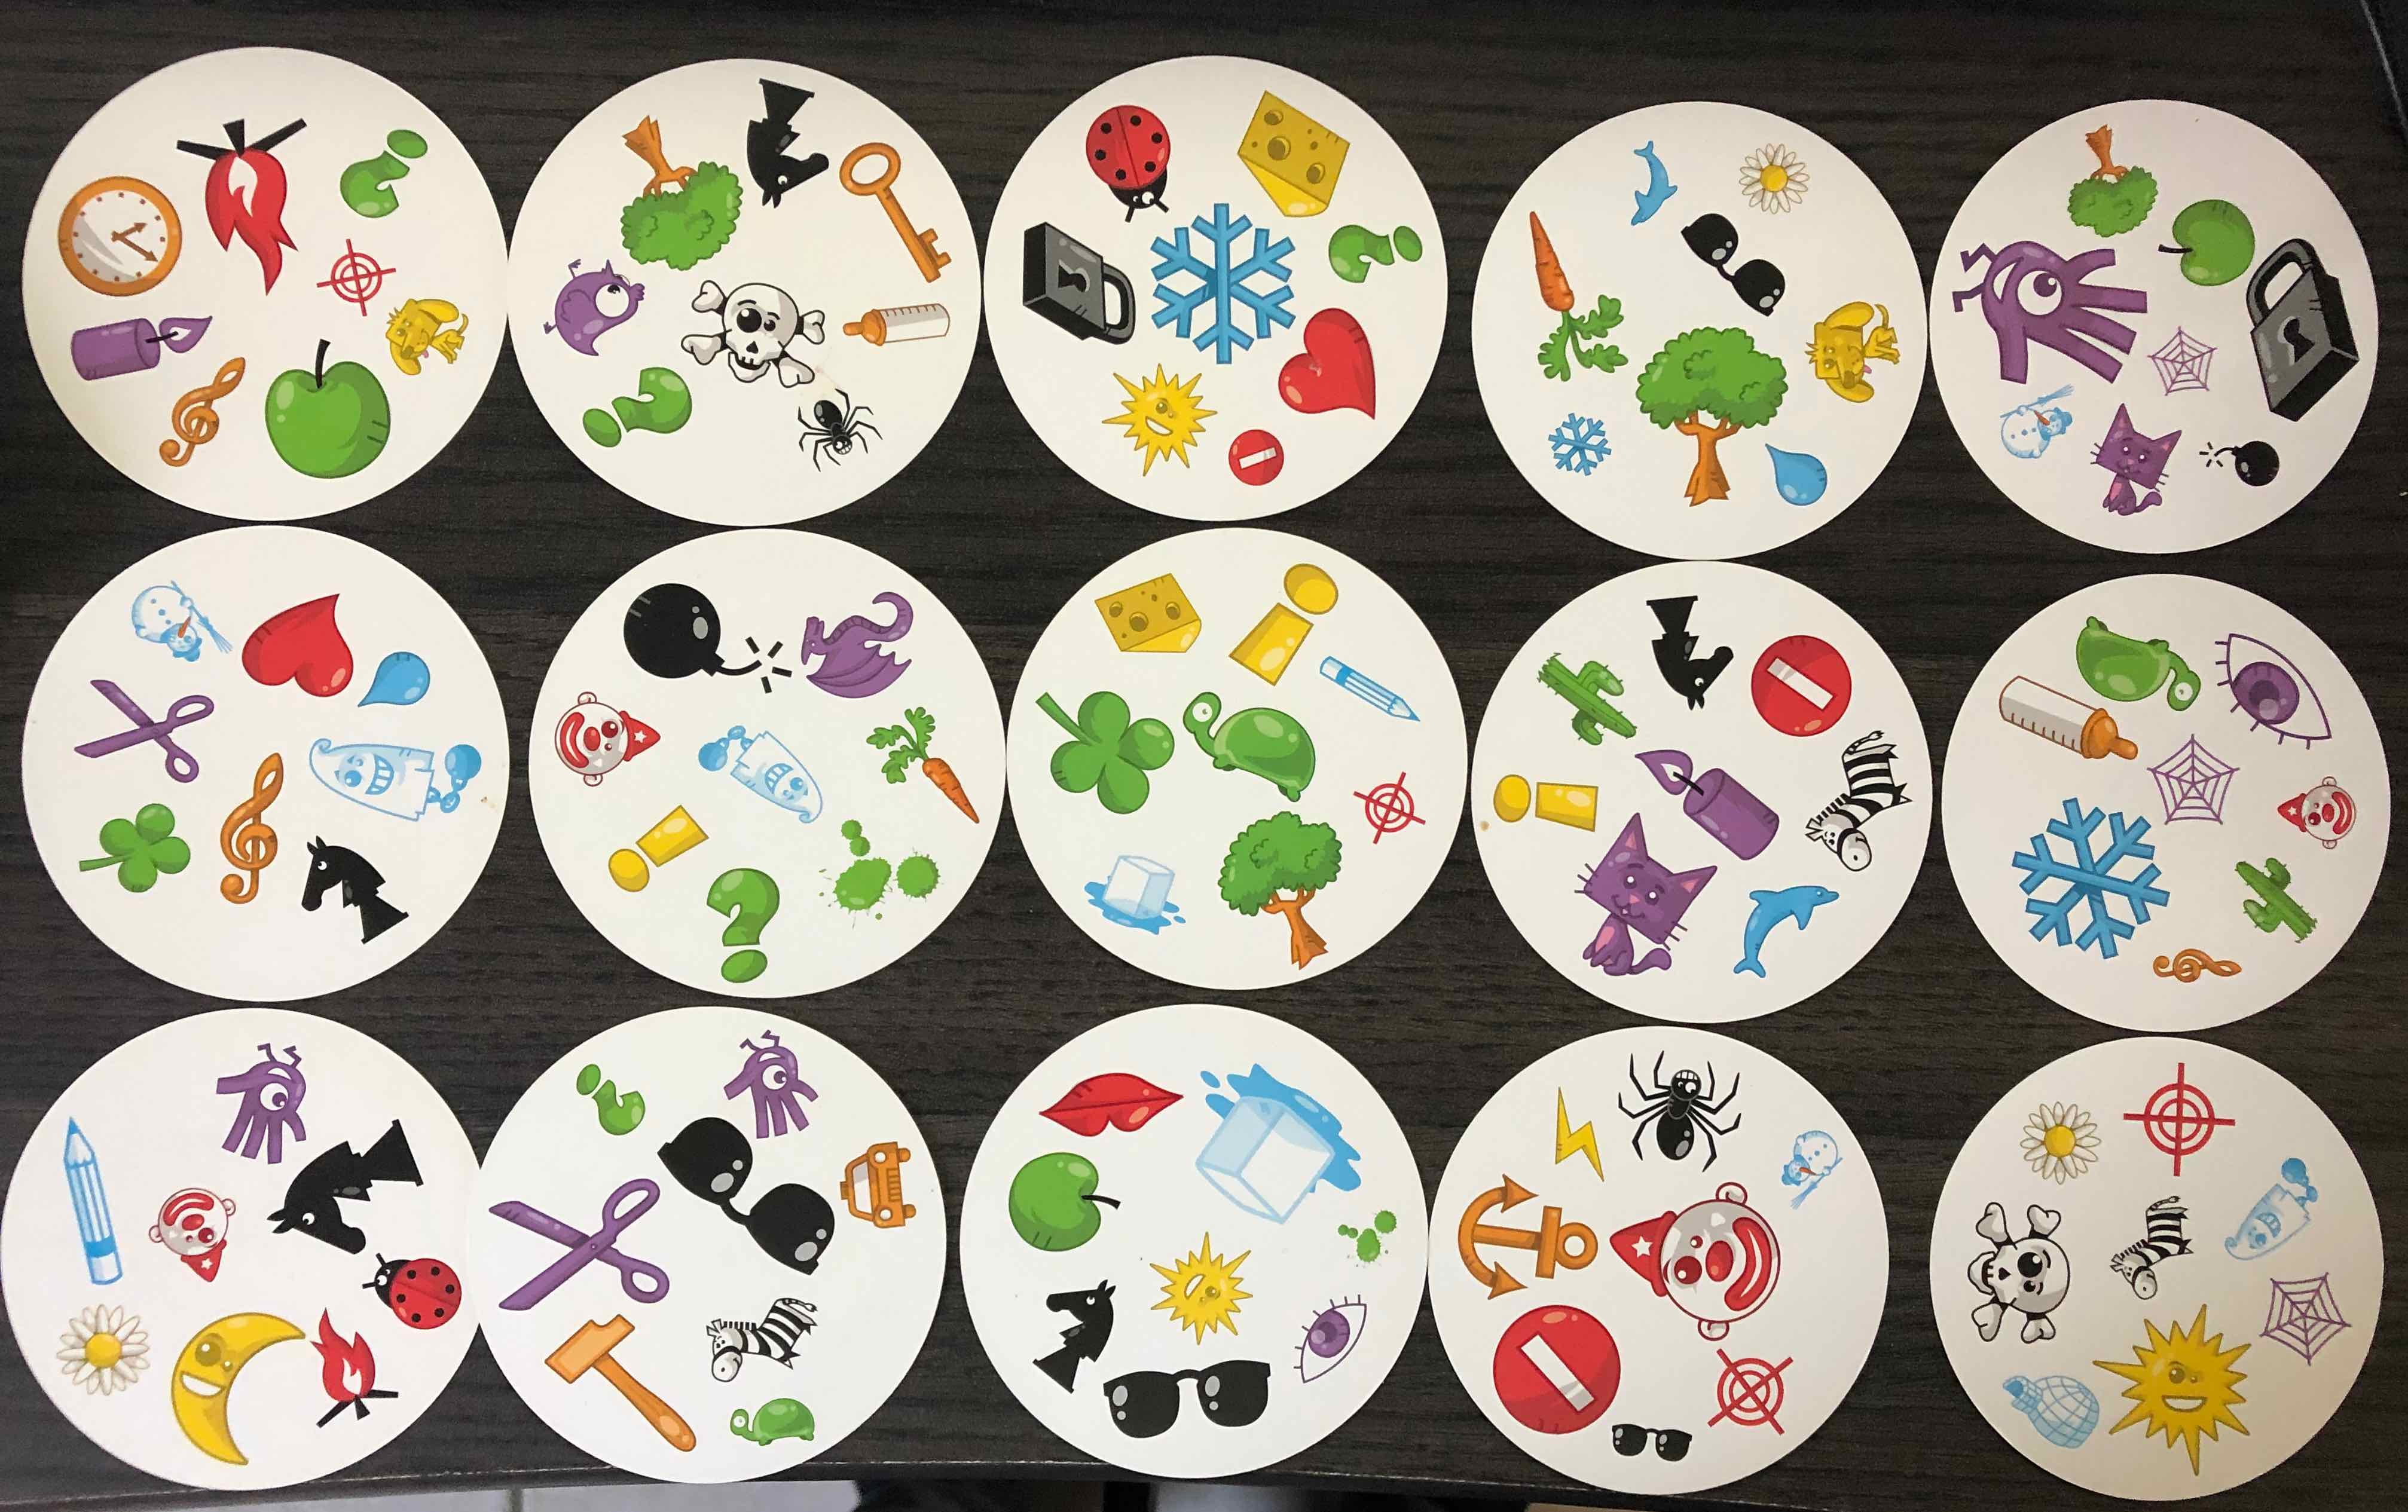ancre: (1441, 1169, 1741, 1310)
araignee: (1600, 1066, 1753, 1176), (2101, 1188, 2201, 1306)
arbre: (612, 131, 768, 268), (1655, 329, 1781, 486), (2068, 639, 2199, 759), (2070, 134, 2188, 249)
bouche: (1500, 232, 1613, 373), (249, 603, 394, 705), (1300, 766, 1392, 866)
bougie: (1633, 744, 1781, 867)
cactus: (1584, 641, 1678, 751)
cheval: (260, 1111, 434, 1265), (720, 1160, 843, 1282), (1681, 200, 1803, 312), (1620, 606, 1730, 719), (704, 1280, 817, 1387), (727, 68, 854, 160)
chien: (1767, 294, 1915, 418), (1113, 582, 1216, 672)
cible: (319, 235, 418, 333)
cle: (540, 1315, 714, 1451)
coccinelle: (1079, 110, 1183, 209), (1744, 646, 1845, 735)
coeur: (249, 603, 394, 705)
dooble: (1941, 235, 2159, 388), (71, 327, 223, 432), (204, 1043, 322, 1162)
fantome: (322, 719, 474, 815)
flocon: (1147, 218, 1298, 361), (2037, 803, 2173, 956)
goutte: (1298, 634, 1404, 739), (1546, 413, 1608, 495)
oiseau: (723, 1042, 814, 1132)
point_exclamation: (610, 817, 714, 892)
pomme: (253, 345, 396, 477), (1000, 1146, 1122, 1261)
sens_interdit: (1481, 1305, 1636, 1451), (354, 1249, 472, 1340), (1744, 646, 1845, 735)
soleil: (2079, 1305, 2251, 1472), (1160, 1233, 1272, 1343)
toile: (2147, 740, 2227, 819)
tortue: (1113, 697, 1305, 817)
